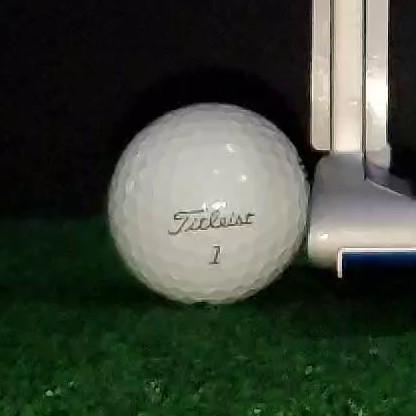golfball: (109, 104, 309, 304)
